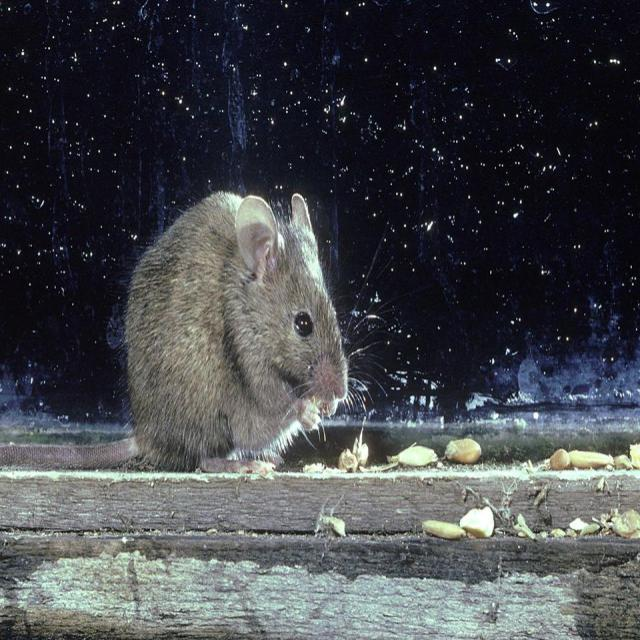rat: (84, 167, 397, 488)
